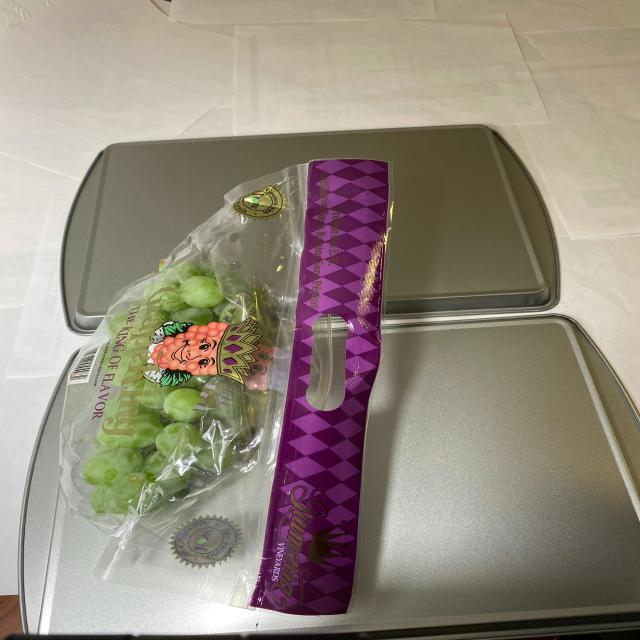grapes: (79, 249, 275, 530)
